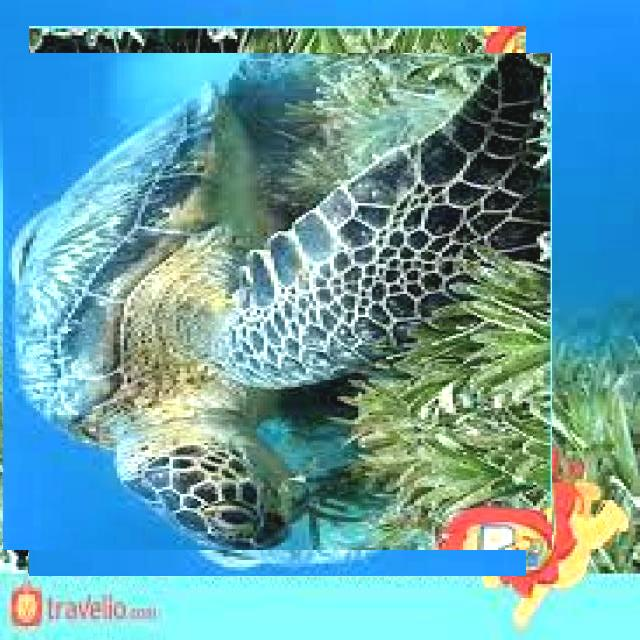Sea turtle: (16, 40, 539, 563)
